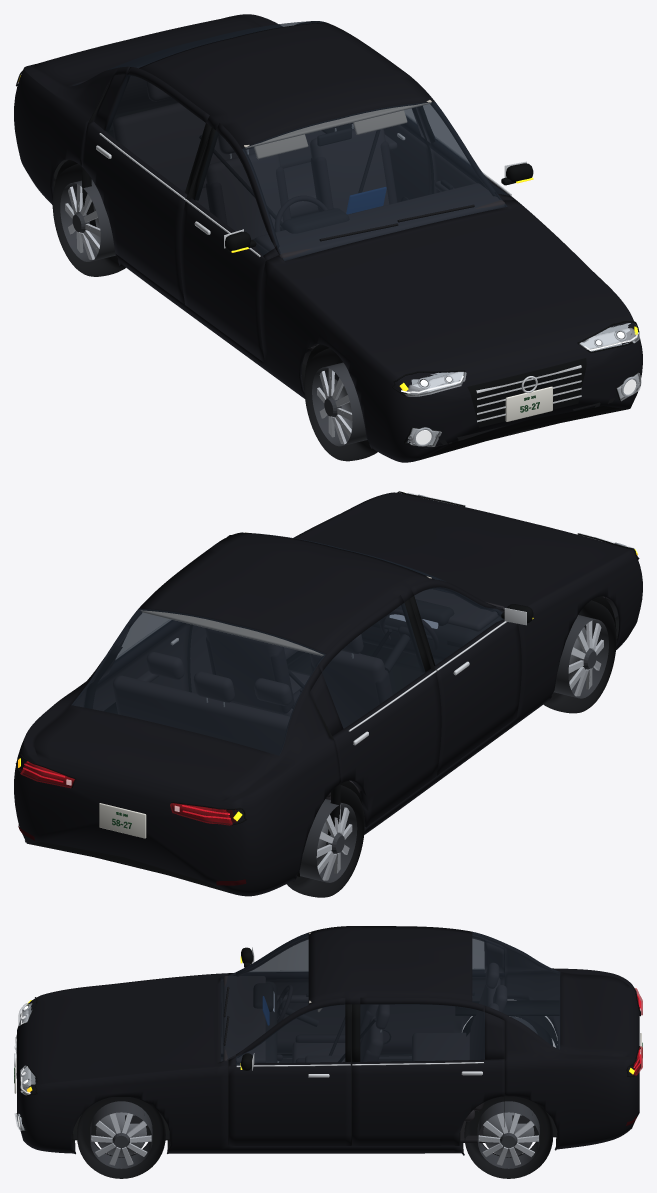
The model's file is car_sedan.glb.
3 views of the same model, one above another, from view 1: azimuth 30°, elevation 25°; view 2: azimuth 150°, elevation 25°; view 3: azimuth 270°, elevation 25° (orthographic). The views are drawn at different scales.
Parts seen in each view (by area): view 1: body_paint, body_glass, body_door_RR, body_door_FR, body_door_RR_glass, dashTop, seat_rear0_back, body_door_FR_glass, seat_driver_back, seat_passenger_back, grille, body_door_RL (+23 smaller); view 2: body_paint, body_glass, body_door_RR, body_door_FR, body_door_RR_glass, seat_rear0_back, body_door_FR_glass, seat_passenger_back, seat_driver_back, body_door_RL, wheel_RR_barrel, body_door_RR_paint (+22 smaller); view 3: body_paint, body_glass, body_door_RL, body_door_FL, body_door_RL_glass, body_door_FL_glass, body_door_RR, dashTop, body_door_FR, wheel_FL_tyre, wheel_RL_tyre, body_door_RL_paint (+23 smaller).
Boxes of the visible parts, x1,y1,x2,y2 form: body_paint: [14, 14, 642, 462]; body_glass: [72, 21, 507, 260]; body_door_RR: [81, 121, 187, 304]; body_door_FR: [180, 197, 266, 362]; body_door_RR_glass: [105, 74, 205, 192]; dashTop: [255, 183, 504, 260]; seat_rear0_back: [112, 103, 325, 192]; body_door_FR_glass: [195, 131, 274, 255]; seat_driver_back: [206, 153, 283, 239]; seat_passenger_back: [310, 129, 388, 214]; grille: [467, 358, 586, 427]; body_door_RL: [384, 117, 431, 202]; body_paint: [14, 492, 642, 896]; body_glass: [71, 533, 505, 755]; body_door_RR: [332, 669, 441, 827]; body_door_FR: [434, 619, 521, 775]; body_door_RR_glass: [322, 603, 425, 728]; seat_rear0_back: [112, 675, 330, 797]; body_door_FR_glass: [414, 587, 503, 664]; seat_passenger_back: [205, 628, 285, 714]; seat_driver_back: [310, 650, 385, 728]; body_door_RL: [93, 620, 190, 710]; wheel_RR_barrel: [299, 799, 357, 882]; body_door_RR_paint: [309, 595, 404, 735]; body_paint: [17, 926, 639, 1155]; body_glass: [220, 932, 560, 1061]; body_door_RL: [352, 1059, 504, 1145]; body_door_FL: [228, 1062, 351, 1145]; body_door_RL_glass: [360, 1004, 484, 1061]; body_door_FL_glass: [236, 1004, 345, 1065]; body_door_RR: [381, 970, 504, 1053]; dashTop: [223, 976, 265, 1064]; body_door_FR: [241, 972, 345, 1053]; wheel_FL_tyre: [77, 1097, 165, 1178]; wheel_RL_tyre: [464, 1096, 553, 1178]; body_door_RL_paint: [360, 997, 504, 1059].
Size of the model in its own units: 2.16 by 1.55 by 5.
